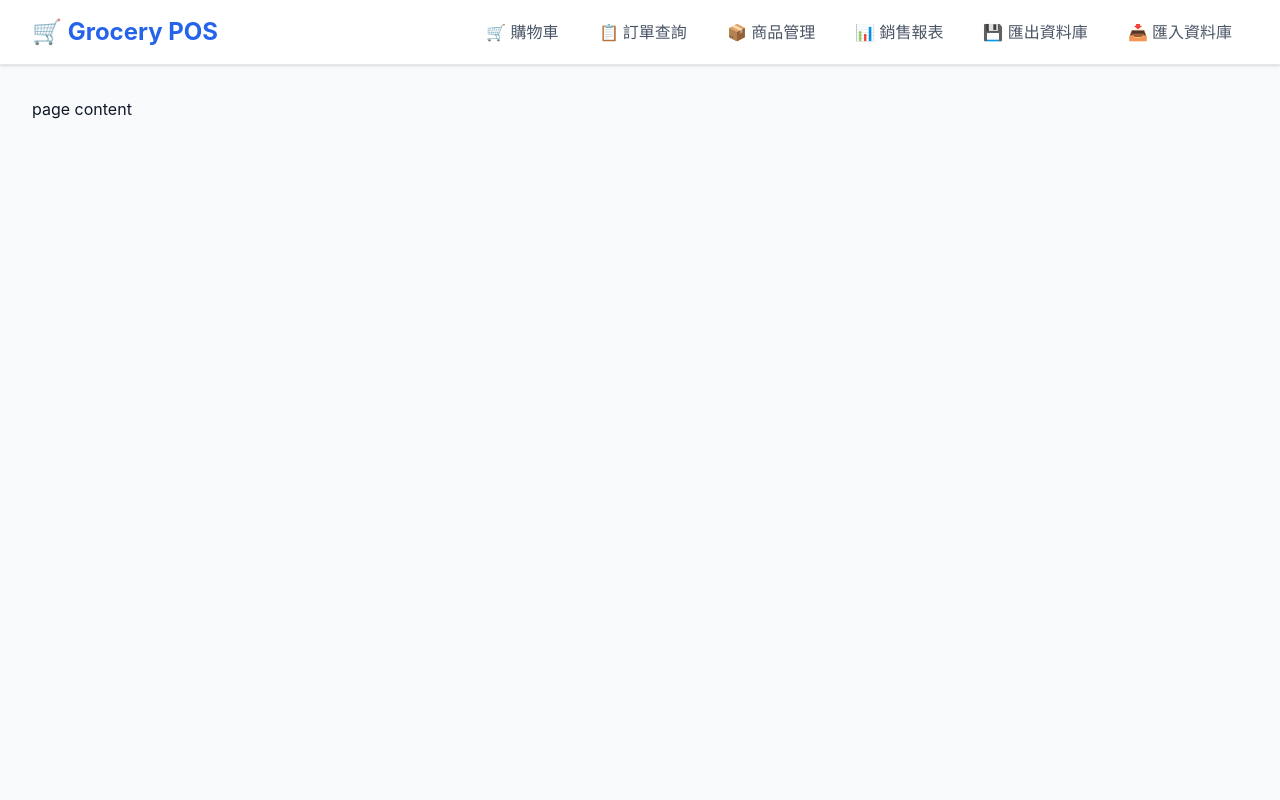
Scenario: Layout database export confirmation › opens the confirmation dialog when 匯出資料庫 is clicked
Click the button "💾 匯出資料庫". click: [1036, 32]
box: x1=967 y1=12 x2=1104 y2=52
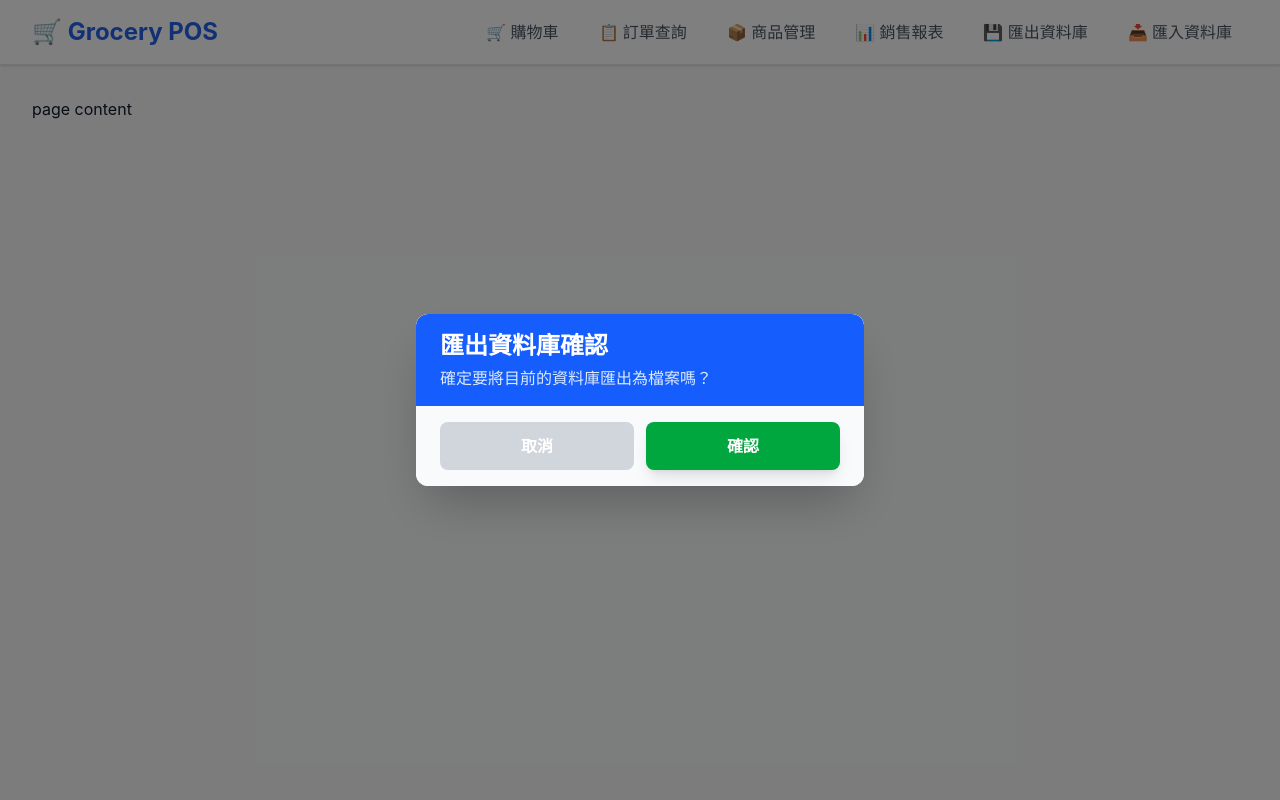
Check: the heading "匯出資料庫確認" is shown, box x1=440 y1=331 x2=608 y2=360
